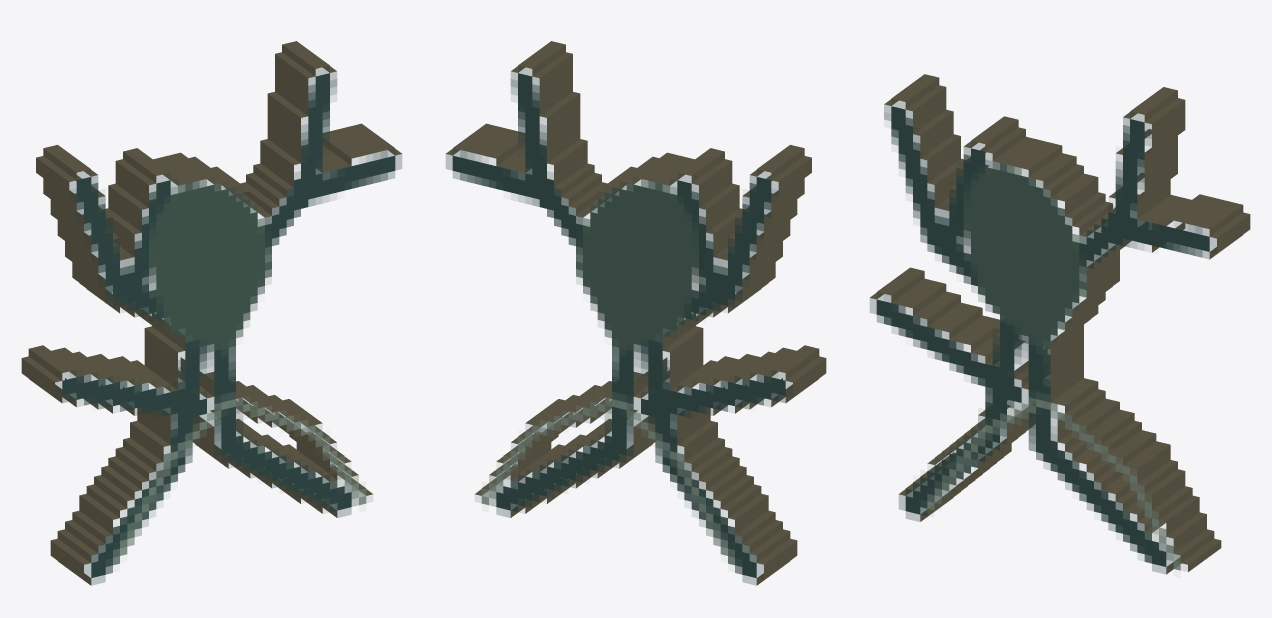
Rendered from DeadTree.glb.
The picture shows the model from 3 angles, left to right: view 1: azimuth 30°, elevation 25°; view 2: azimuth 150°, elevation 25°; view 3: azimuth 330°, elevation 25°; orthographic projection.
Parts seen in each view (by area): view 1: Visual; view 2: Visual; view 3: Visual.
Boxes of the visible parts, x1,y1,x2,y2 form: Visual: (21, 41, 401, 585); Visual: (446, 41, 826, 585); Visual: (870, 74, 1250, 574).
Size of the model in its own units: 0.5 by 0.63 by 0.08.
Materials: 3 (2 with a texture image).
